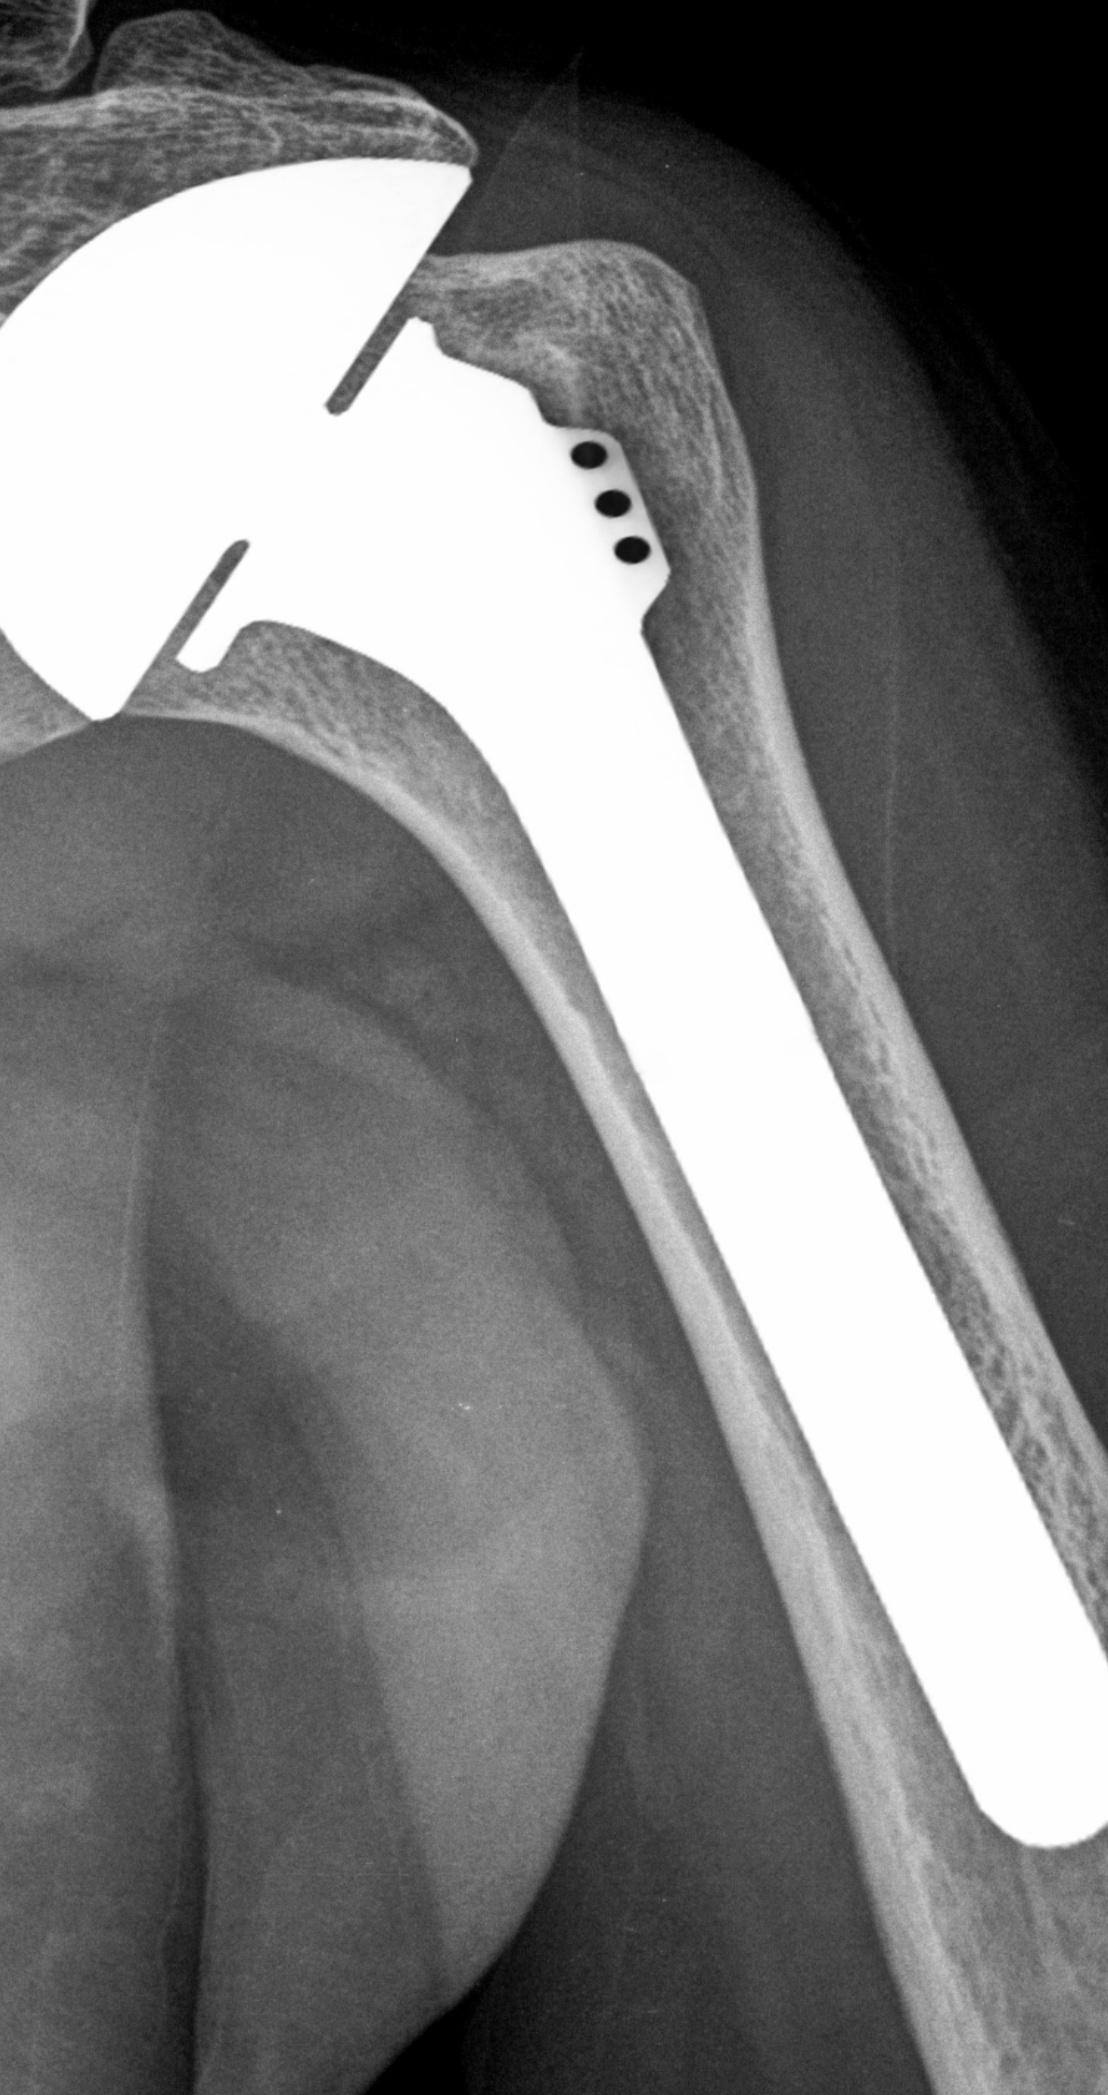Shoulder-Olympia-Wright: (1, 134, 1098, 1859)
